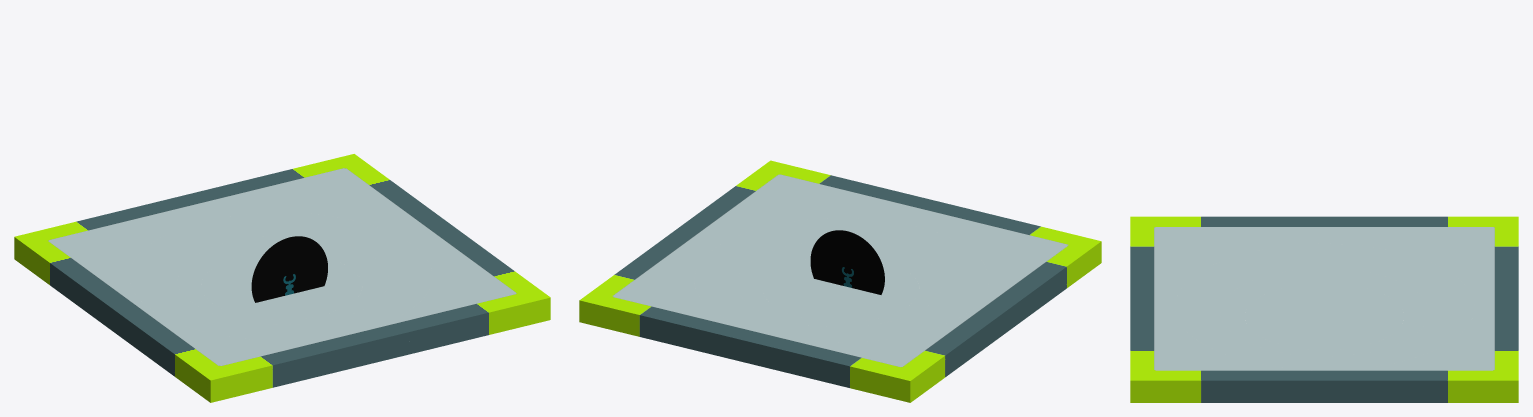
File: trap_blackhole_test.fbx
3 renders of one model, left to right at view 1: azimuth 30°, elevation 25°; view 2: azimuth 150°, elevation 25°; view 3: azimuth 270°, elevation 25°, orthographic. The views are drawn at different scales.
Visible parts, largest first — view 1: Plane; view 2: Plane; view 3: Plane.
Part boxes in pixels (x1,y1,x2,y2): Plane: (14,154,550,402); Plane: (579,160,1101,402); Plane: (1130,216,1518,402).
Bounding box in the file's own units: 100 × 70.69 × 100.
Materials: 1 (1 with a texture image).
